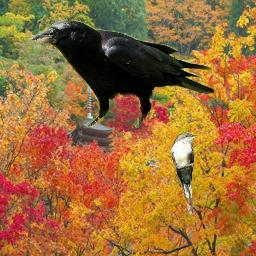Crow: (28, 20, 214, 128)
Cuckoo: (171, 132, 198, 217)
